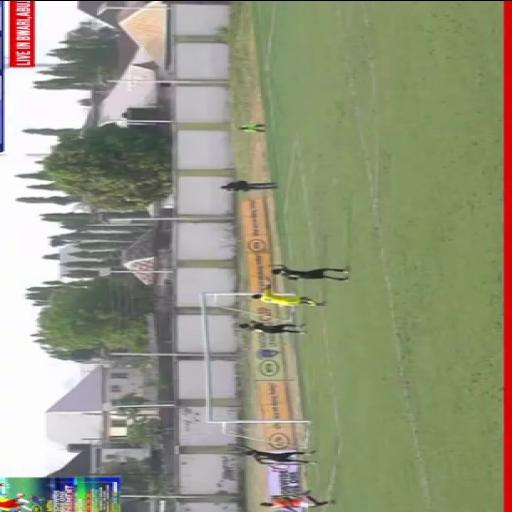keeper2: (248, 288, 330, 310)
team1: (256, 484, 340, 512)
team2: (229, 440, 321, 472), (251, 259, 357, 284), (225, 316, 310, 334)
